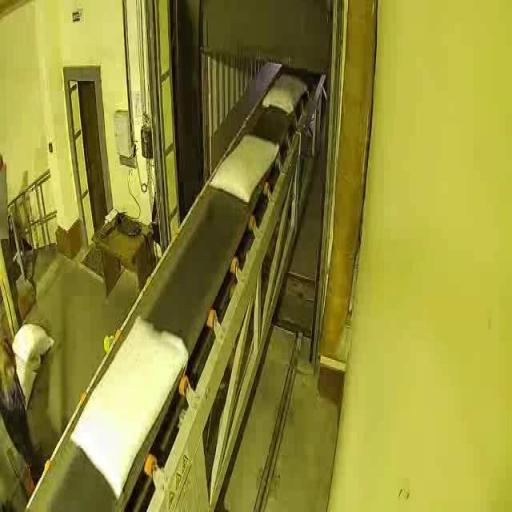c-belt-sack-count: (72, 317, 187, 496), (210, 135, 278, 202), (263, 74, 306, 112)
